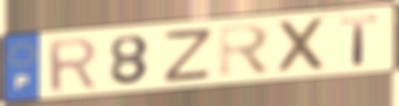8: (109, 33, 152, 87)
R: (216, 21, 273, 81), (45, 34, 100, 95)
T: (338, 13, 382, 68)
X: (276, 14, 330, 77)
Z: (159, 25, 216, 85)
